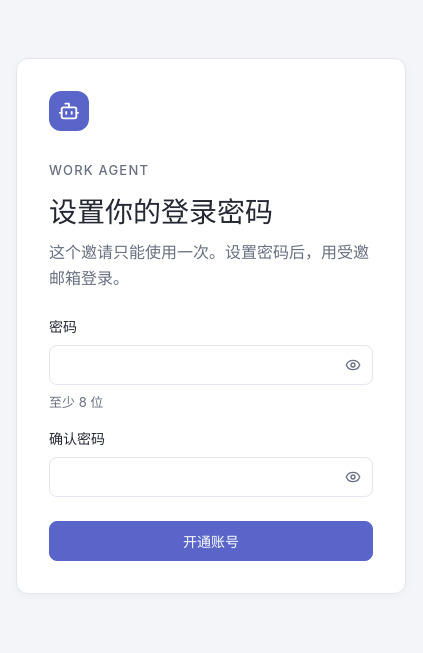
InvitePage › explains an invalid or used invite
Type "password123" into the password field labelled "密码".
click(211, 364); type("password123")  # box [49, 344, 373, 384]
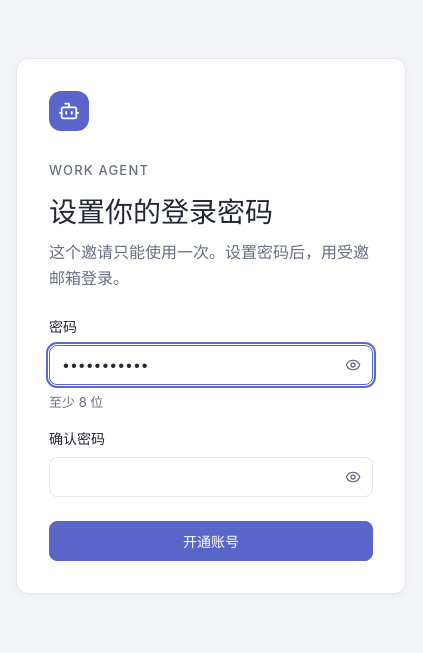
Type "password123" into the password field labelled "确认密码".
click(211, 477); type("password123")  # box [49, 457, 373, 497]
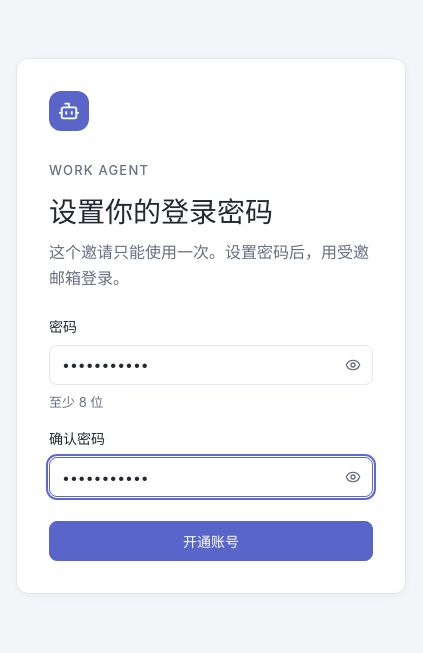
Click the button "开通账号".
click(211, 541)  # box [49, 521, 373, 561]
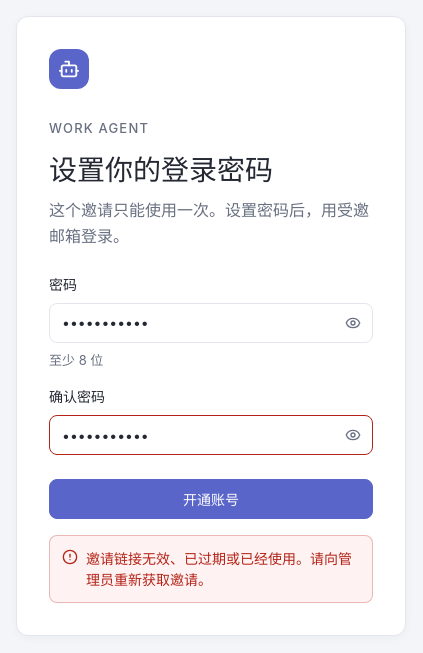
Now the text "邀请链接无效、已过期或已经使用。请向管理员重新获取邀请。" is shown, box [86, 548, 360, 590]
